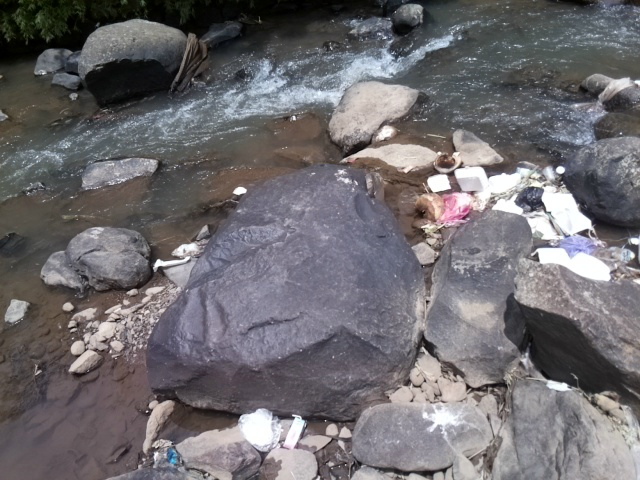Sampah_Plastik: (235, 407, 285, 454), (441, 193, 477, 229), (553, 232, 600, 257), (514, 184, 546, 215)
Sampah_Styrofoam: (535, 247, 615, 283), (542, 191, 596, 236), (483, 169, 520, 216), (450, 164, 494, 193), (425, 174, 454, 193)
